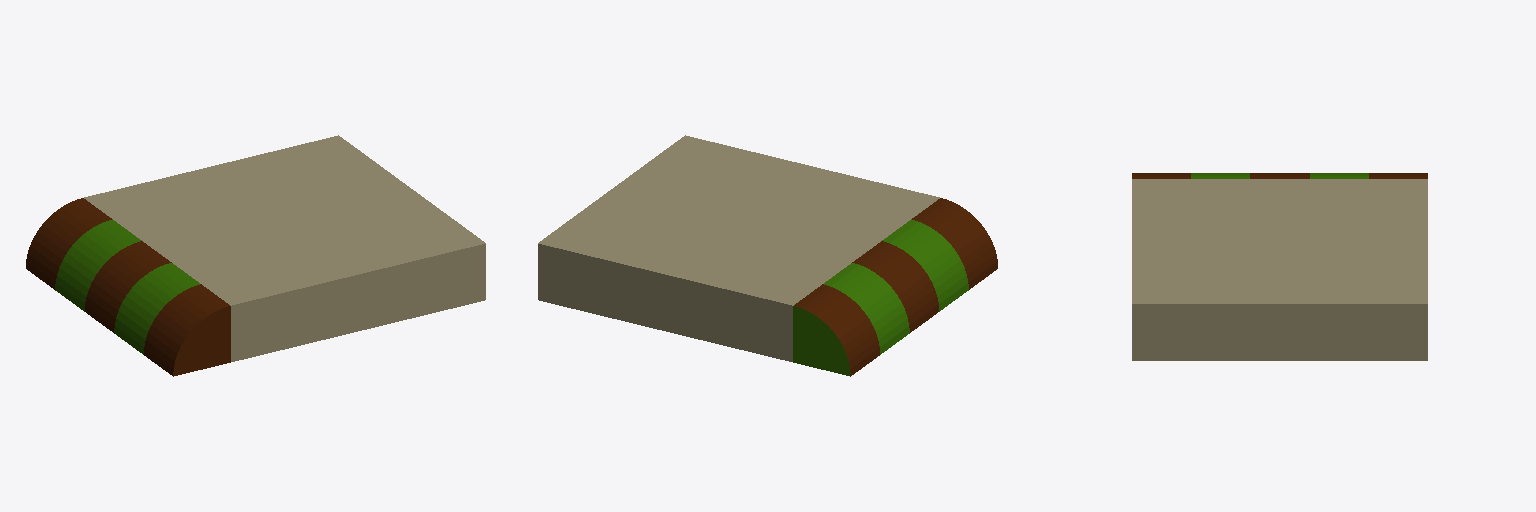
3 views of the same model, side by side, from view 1: azimuth 30°, elevation 25°; view 2: azimuth 150°, elevation 25°; view 3: azimuth 270°, elevation 25° (orthographic).
Visible parts, largest first — view 1: G-__555645_G-__555645_Dark_brick, G-__555645_G-__555645_Wood, G-__555645_G-__555645_[Green]; view 2: G-__555645_G-__555645_Dark_brick, G-__555645_G-__555645_Wood, G-__555645_G-__555645_[Green]; view 3: G-__555645_G-__555645_Dark_brick, G-__555645_G-__555645_Wood, G-__555645_G-__555645_[Green].
Part boxes in pixels (left/top/right/bottom): G-__555645_G-__555645_Dark_brick: left=84, top=135, right=485, bottom=361; G-__555645_G-__555645_Wood: left=26, top=198, right=230, bottom=376; G-__555645_G-__555645_[Green]: left=55, top=219, right=199, bottom=354; G-__555645_G-__555645_Dark_brick: left=538, top=135, right=939, bottom=361; G-__555645_G-__555645_Wood: left=794, top=198, right=997, bottom=375; G-__555645_G-__555645_[Green]: left=793, top=219, right=968, bottom=376; G-__555645_G-__555645_Dark_brick: left=1132, top=179, right=1427, bottom=360; G-__555645_G-__555645_Wood: left=1132, top=173, right=1427, bottom=178; G-__555645_G-__555645_[Green]: left=1191, top=173, right=1368, bottom=178.
Bounding box in the file's own units: 1.23 × 0.2125 × 1.